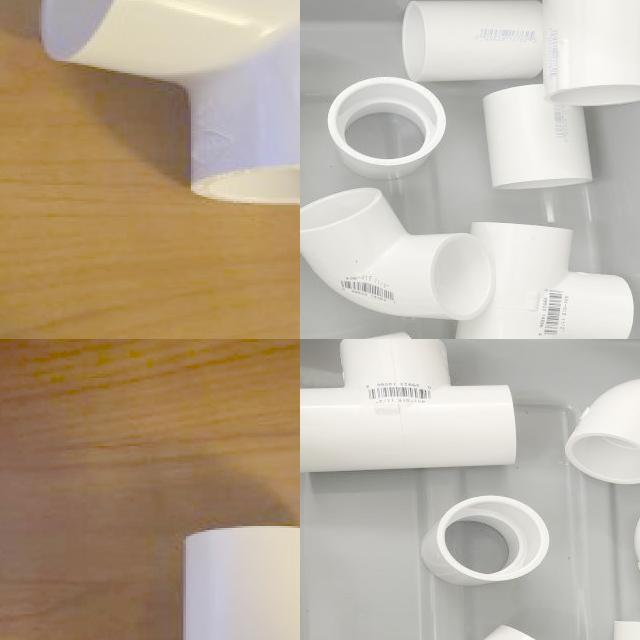L Joint: (300, 188, 497, 324), (565, 380, 640, 487)
T Joint: (300, 339, 518, 475), (456, 223, 636, 339)
